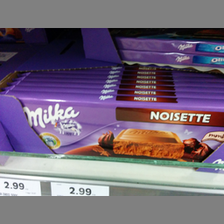chocolate: (1, 92, 224, 165)
